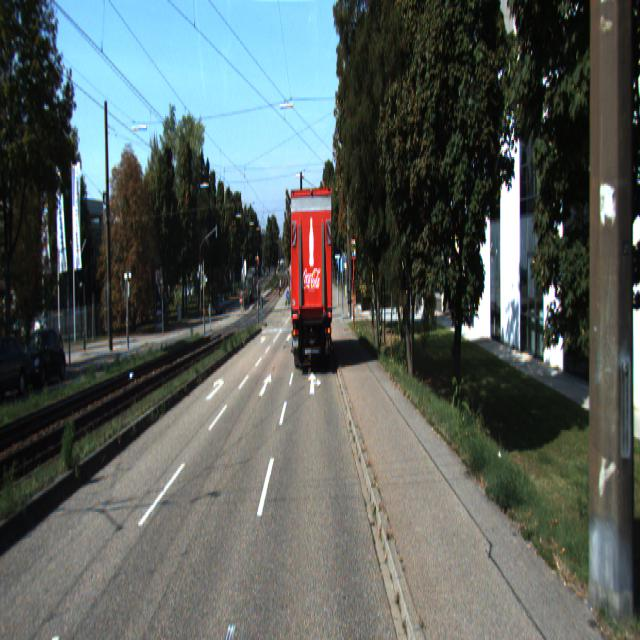Car: (288, 180, 336, 370), (20, 327, 68, 390), (0, 336, 34, 403)
